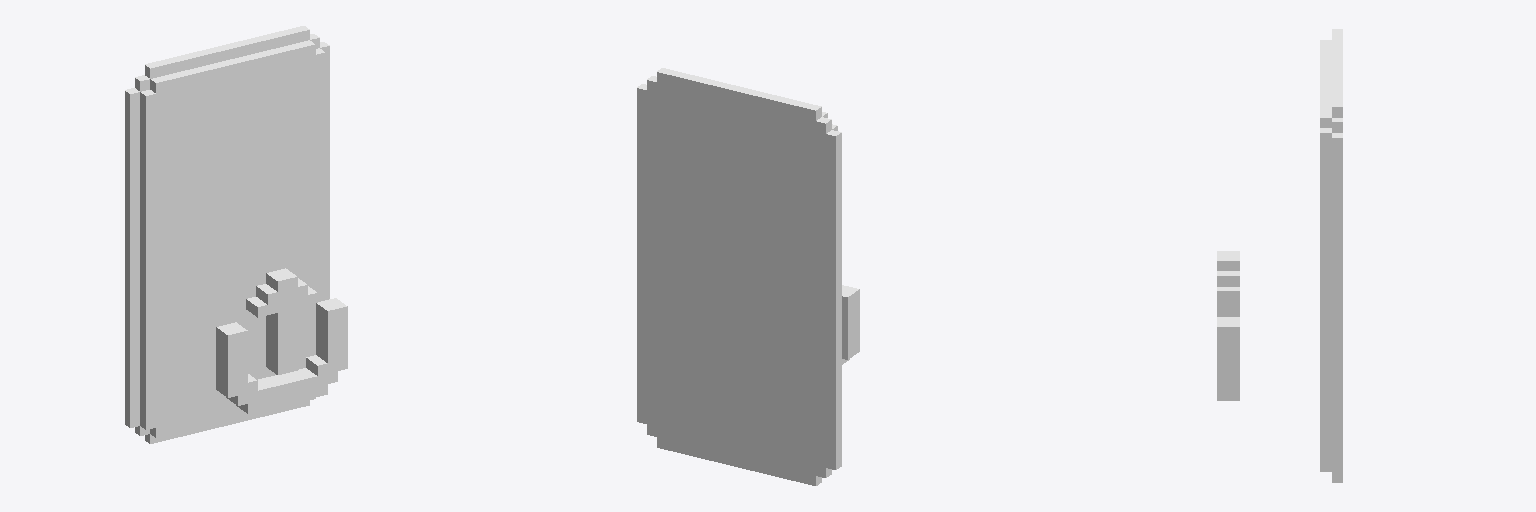
The model's file is phoneTapShare.obj.
3 renders of one model, left to right at view 1: azimuth 30°, elevation 25°; view 2: azimuth 150°, elevation 25°; view 3: azimuth 270°, elevation 25°, orthographic.
Size of the model in its own units: 20 by 36 by 11.